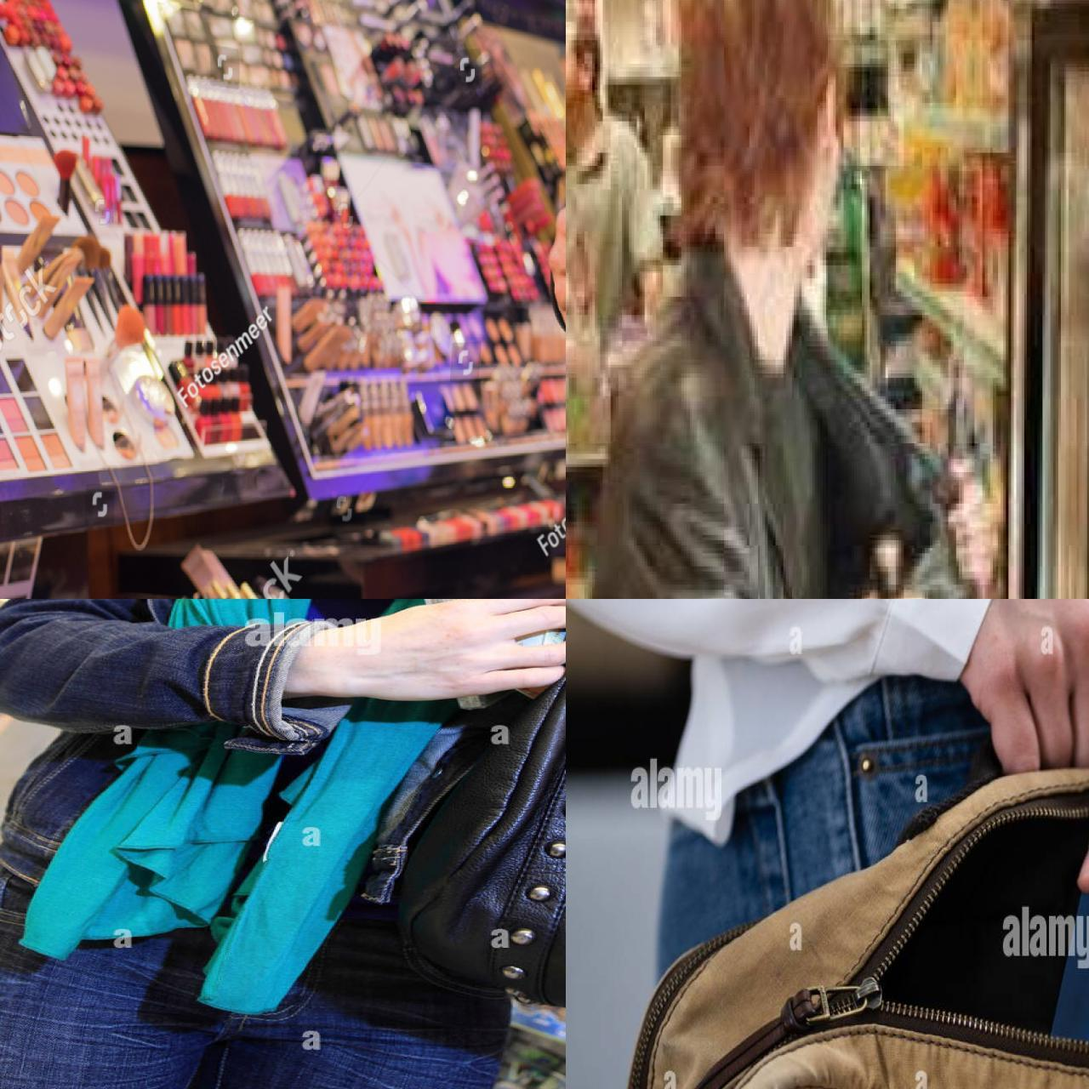shoplifting: (9, 603, 562, 1048)
